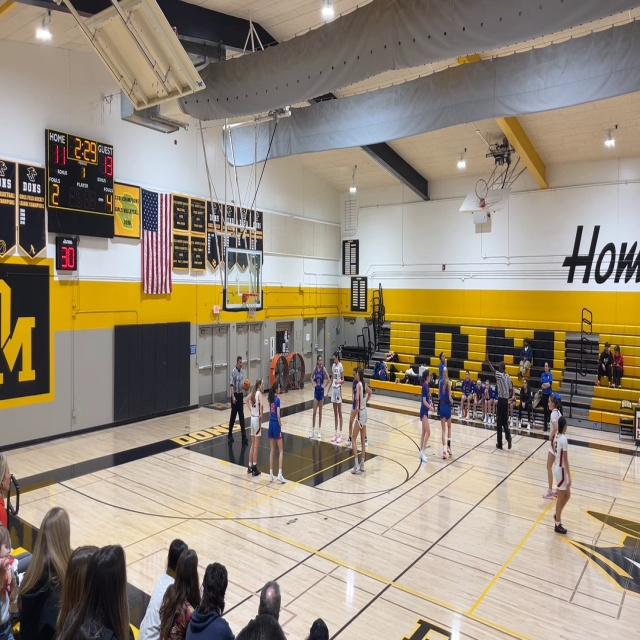Basketball: (242, 379, 250, 390)
